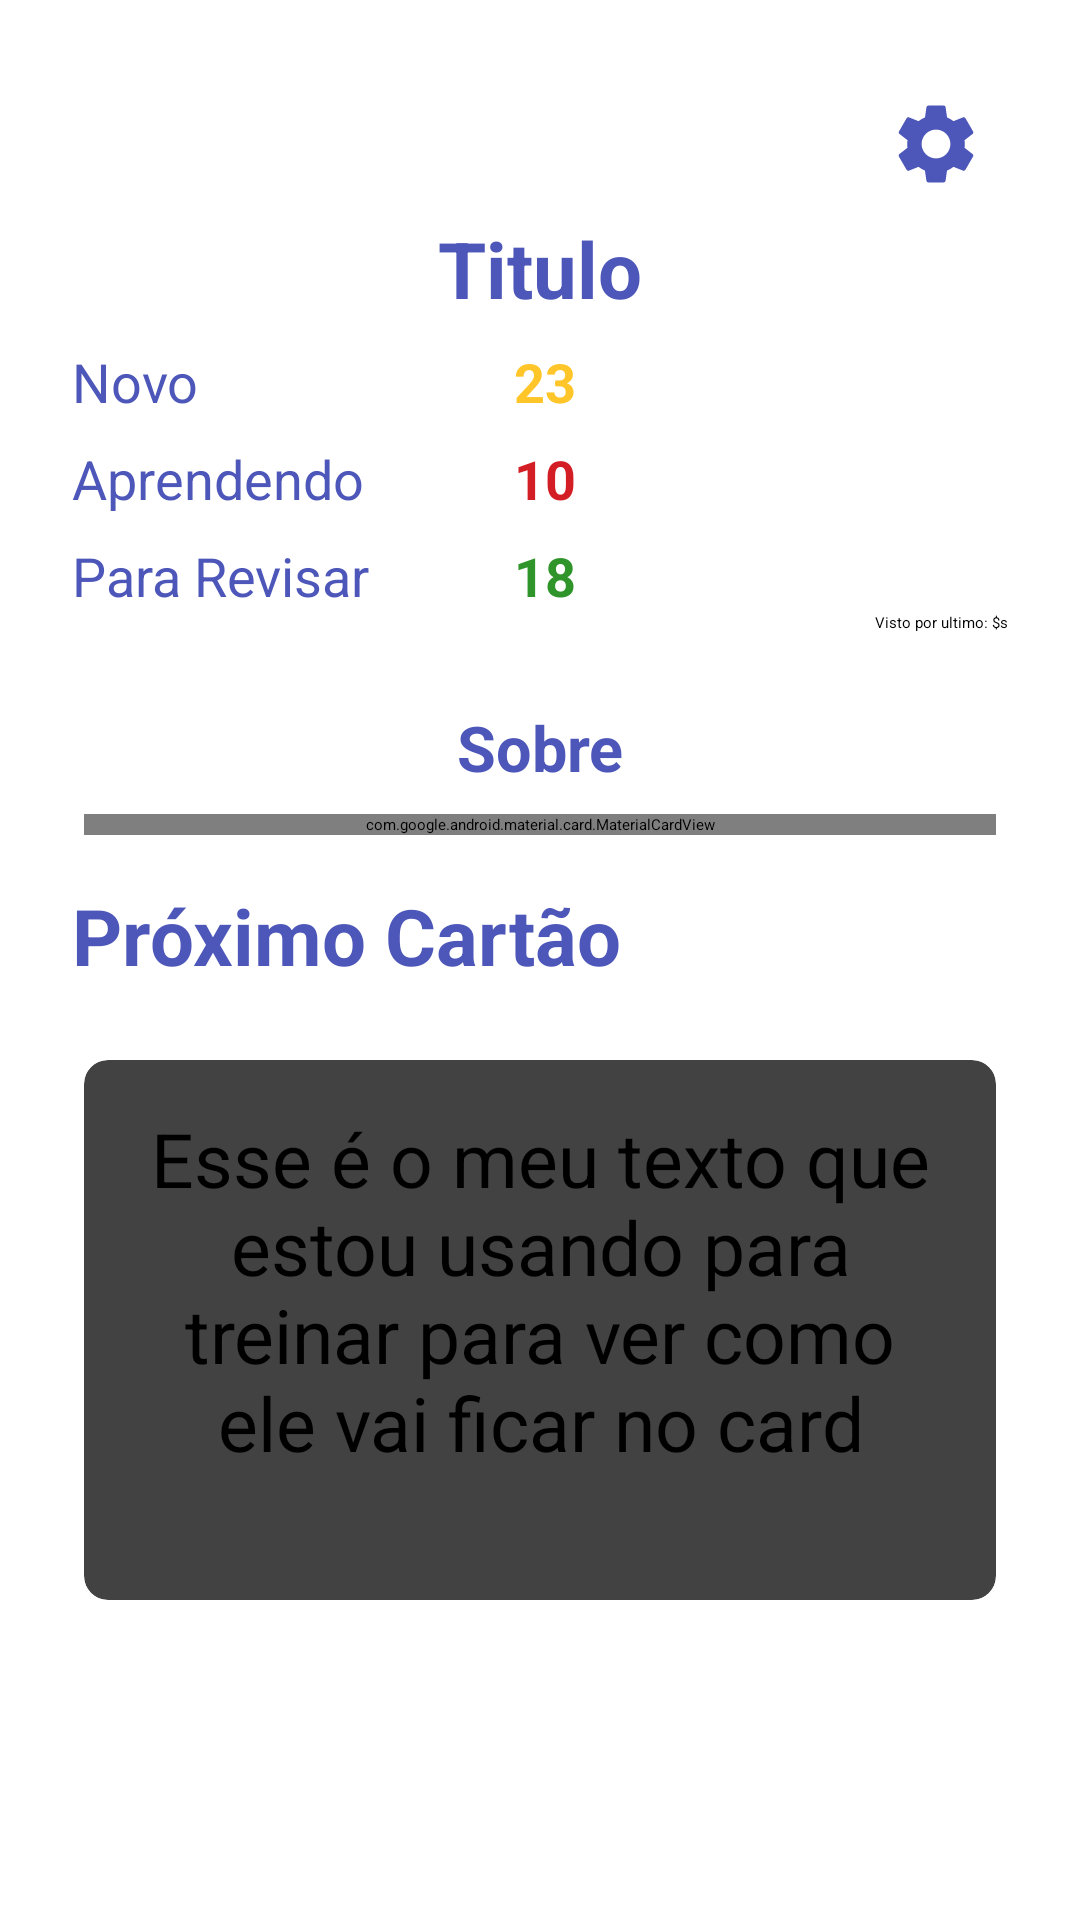

Named icons in this screenshot (1080 × 1920) and their centers, [x,y]:
settings: [936,144]
